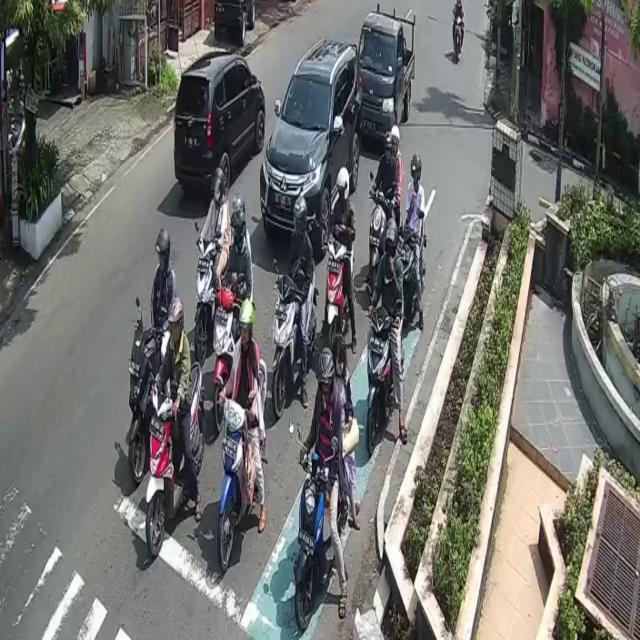bus: (147, 360, 203, 562), (220, 356, 268, 562), (272, 264, 316, 432), (128, 321, 162, 487), (300, 450, 331, 631), (365, 307, 394, 459), (194, 226, 216, 357), (327, 240, 352, 349)
motorcycle: (261, 38, 363, 250), (174, 54, 265, 196), (356, 11, 414, 138)
